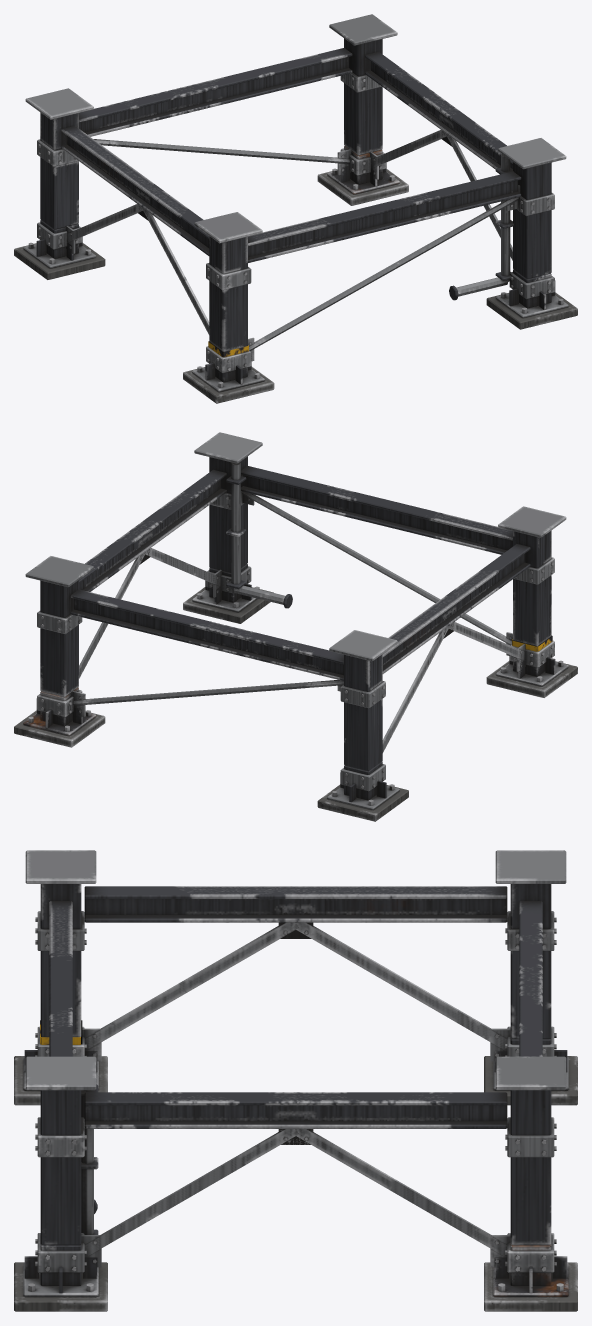
File: nodexeus-set-legs-2.glb
The picture shows the model from 3 angles, top to bottom: view 1: azimuth 30°, elevation 25°; view 2: azimuth 150°, elevation 25°; view 3: azimuth 270°, elevation 25°; orthographic projection. The views are drawn at different scales.
Parts seen in each view (by area): view 1: set-legs-2; view 2: set-legs-2; view 3: set-legs-2.
Boxes of the visible parts, x1,y1,x2,y2 form: set-legs-2: [14, 14, 577, 403]; set-legs-2: [14, 432, 577, 821]; set-legs-2: [14, 850, 577, 1311].
Size of the model in its own units: 6.44 by 2.7 by 6.24.
Materials: 1 (1 with a texture image).
